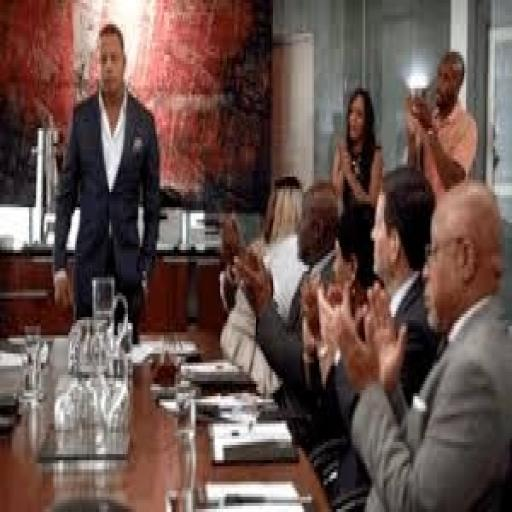clapping: (319, 177, 510, 509), (216, 119, 377, 469), (393, 4, 512, 252), (324, 38, 385, 351)
